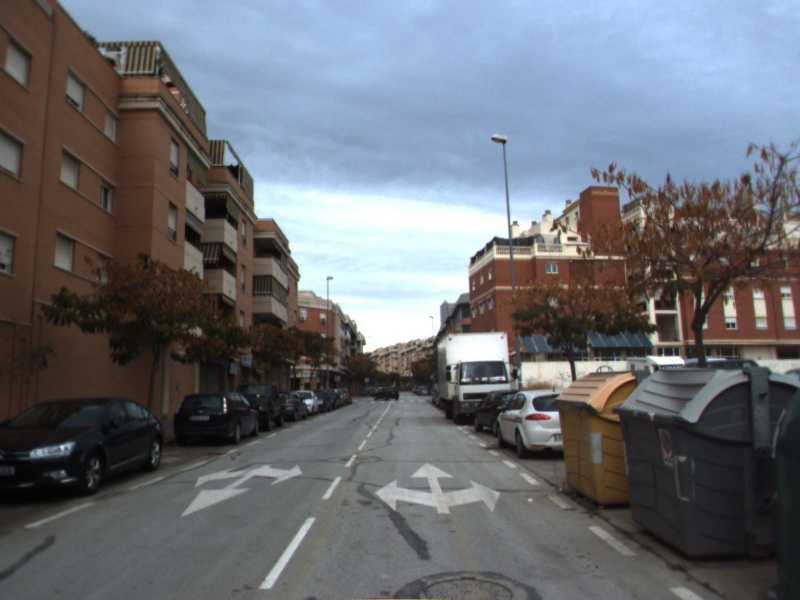STRAIGHT_LEFT_RIGHT: (373, 460, 503, 517)
